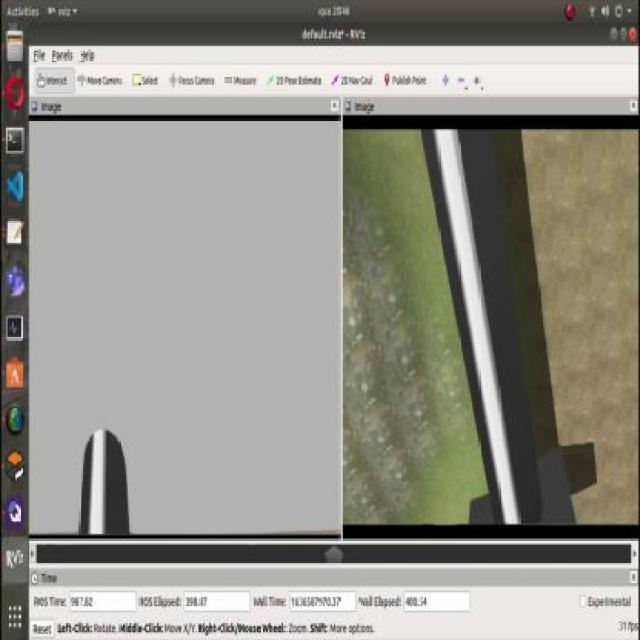gas: (434, 129, 519, 520), (77, 432, 129, 538)
